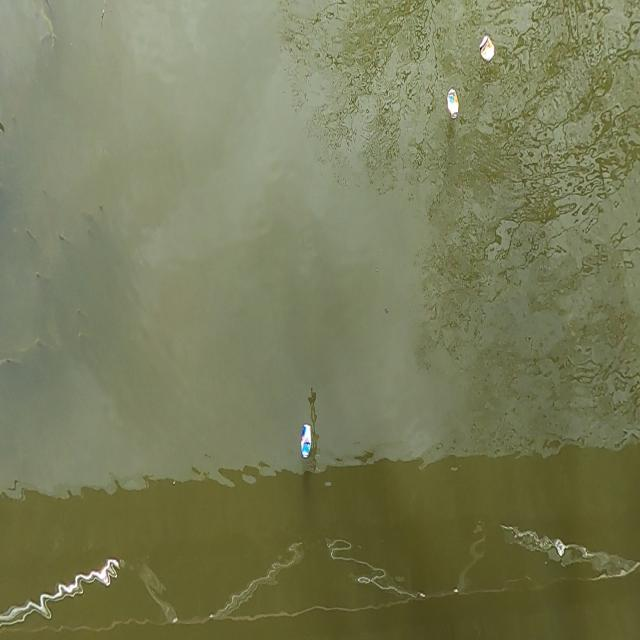Non plastique: (298, 418, 316, 462), (478, 32, 498, 67), (444, 85, 462, 122)
